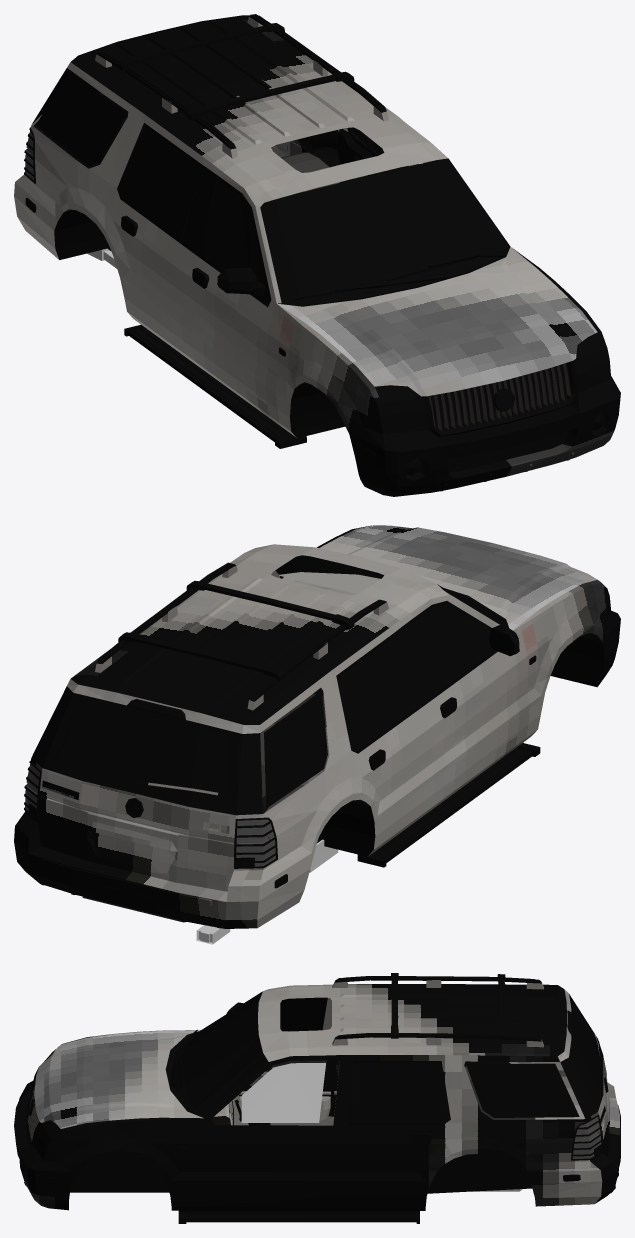
File: mercury_mountaineer_u152_sylvia.obj
3 views of the same model, one above another, from view 1: azimuth 30°, elevation 25°; view 2: azimuth 150°, elevation 25°; view 3: azimuth 270°, elevation 25° (orthographic). The views are drawn at different scales.
Parts seen in each view (by area): view 1: body, translucent, hood, under, doorFR, doorRR, translucent_doorRR, translucent_doorFR, doorRL, in; view 2: body, hatch, under, doorFR, hood, translucent_hatch, doorRR, translucent, translucent_doorRR, translucent_doorFR, in, under.001; view 3: body, under, translucent, doorFL, doorRL, hood, translucent_doorRL, translucent_doorFL, translucent_hatch, translucent_doorFR, doorFR, hatch (+2 smaller).
Part boxes in pixels (<box>): body: <box>14,15,620,496</box>; translucent: <box>25,72,608,475</box>; hood: <box>277,246,597,396</box>; under: <box>24,14,578,474</box>; doorFR: <box>184,163,278,421</box>; doorRR: <box>104,112,211,355</box>; translucent_doorRR: <box>119,127,200,239</box>; translucent_doorFR: <box>200,180,260,274</box>; doorRL: <box>337,127,413,180</box>; in: <box>281,152,339,197</box>; body: <box>14,525,620,928</box>; hatch: <box>38,693,242,891</box>; under: <box>24,562,615,922</box>; doorFR: <box>399,595,527,804</box>; hood: <box>280,525,597,630</box>; translucent_hatch: <box>53,703,236,806</box>; doorRR: <box>330,621,438,846</box>; translucent: <box>25,555,502,866</box>; translucent_doorRR: <box>337,637,417,750</box>; translucent_doorFR: <box>410,604,488,692</box>; in: <box>260,572,380,813</box>; under.001: <box>196,839,338,944</box>; body: <box>14,984,620,1210</box>; under: <box>26,973,603,1223</box>; translucent: <box>33,991,601,1159</box>; doorFL: <box>192,1055,340,1206</box>; doorRL: <box>331,1055,461,1206</box>; hood: <box>34,1030,203,1128</box>; translucent_doorRL: <box>351,1063,447,1122</box>; translucent_doorFL: <box>241,1063,325,1122</box>; translucent_hatch: <box>572,1002,600,1102</box>; translucent_doorFR: <box>258,997,324,1031</box>; doorFR: <box>226,997,331,1120</box>; hatch: <box>569,994,609,1156</box>.
Bounding box in the file's own units: 2.6 × 1.9 × 5.87.
